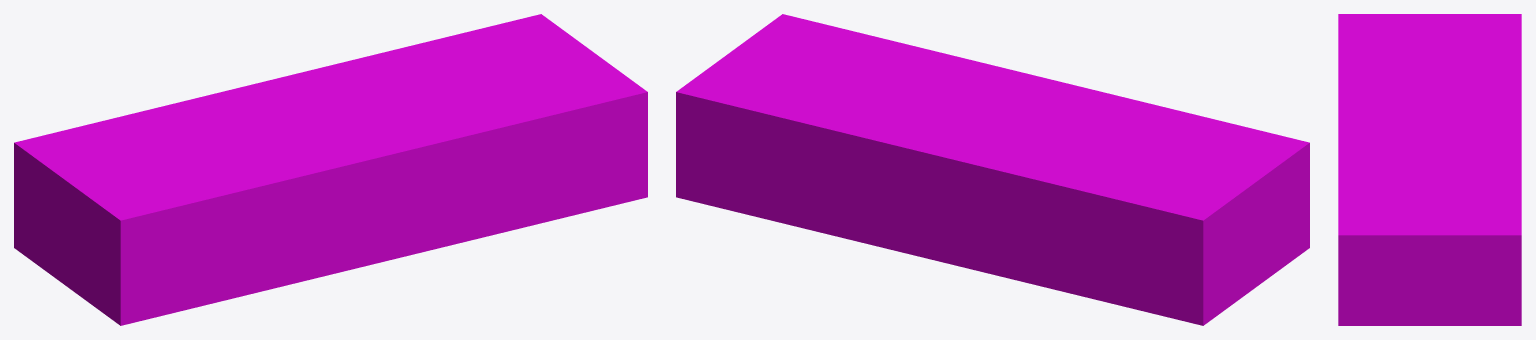
The model's file is jump.fbx.
3 views of the same model, side by side, from view 1: azimuth 30°, elevation 25°; view 2: azimuth 150°, elevation 25°; view 3: azimuth 270°, elevation 25° (orthographic). The views are drawn at different scales.
Parts seen in each view (by area): view 1: cube; view 2: cube; view 3: cube.
Part boxes in pixels (x1,y1,x2,y2): cube: (14,14,647,325); cube: (676,14,1309,325); cube: (1338,14,1521,325).
Bounding box in the file's own units: 8.32 × 1.59 × 2.91.
